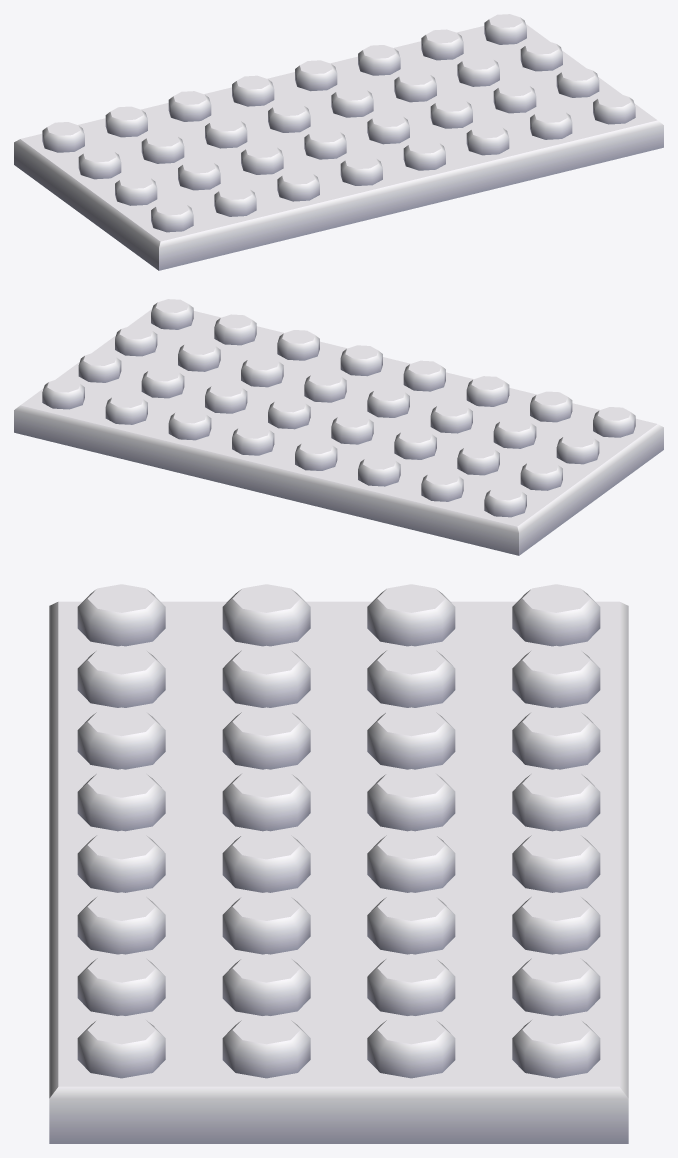
Rendered from kenney-brick-round-hq-plate-4-x-8.glb.
3 renders of one model, top to bottom at view 1: azimuth 30°, elevation 25°; view 2: azimuth 150°, elevation 25°; view 3: azimuth 270°, elevation 25°, orthographic. The views are drawn at different scales.
Parts seen in each view (by area): view 1: round-hq-plate-4x8; view 2: round-hq-plate-4x8; view 3: round-hq-plate-4x8.
Boxes of the visible parts, <box> form: round-hq-plate-4x8: <box>14,14,663,270</box>; round-hq-plate-4x8: <box>14,299,663,555</box>; round-hq-plate-4x8: <box>49,584,628,1143</box>.
Bounding box in the file's own units: 0.636 × 0.05 × 0.316.
Materials: 1 (1 with a texture image).
